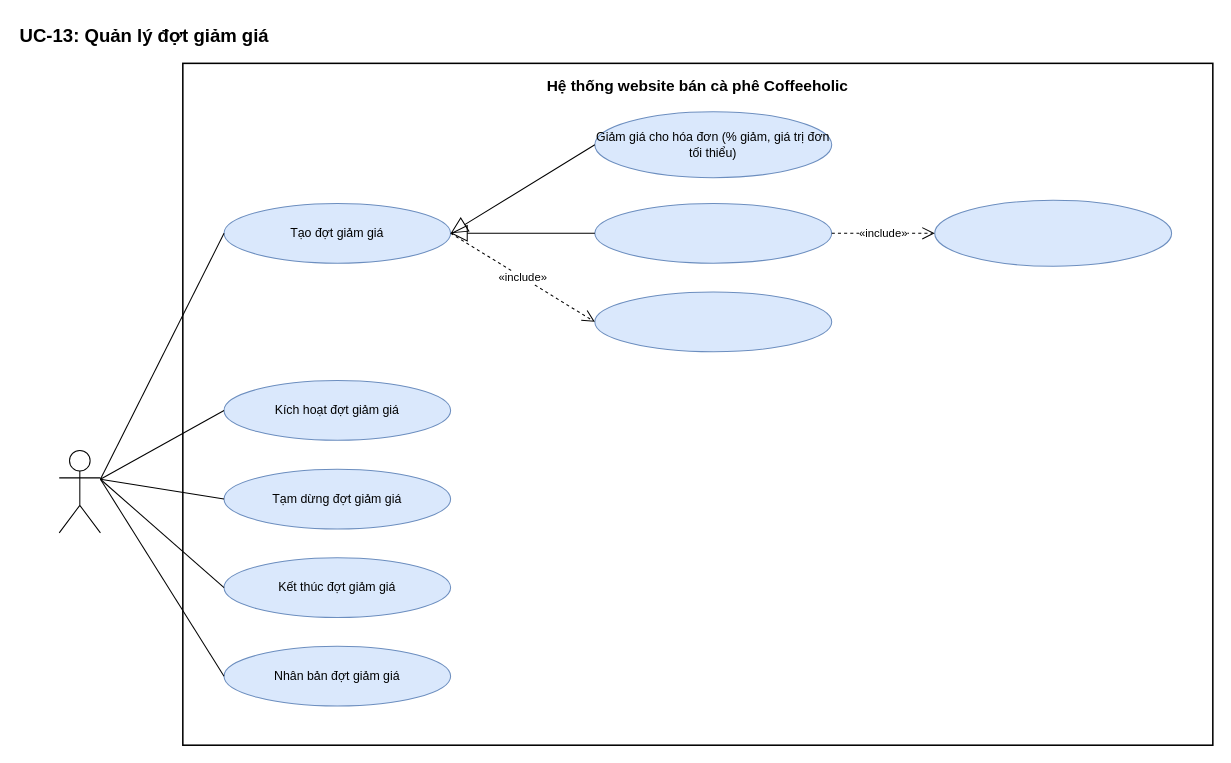
Some shapes in this 1231 by 763 pixel diagram are drawn without their labels. The centre of each missing label's shape, as x and y in pixels:
"Chọn cà phê, mức giảm riêng, số lượng tối đa" goes at point (1053, 232).
"Giảm giá cho cà phê cụ thể" goes at point (713, 232).
"Quản lý" goes at point (79, 491).
"Thiết lập thời gian áp dụng" goes at point (713, 321).
